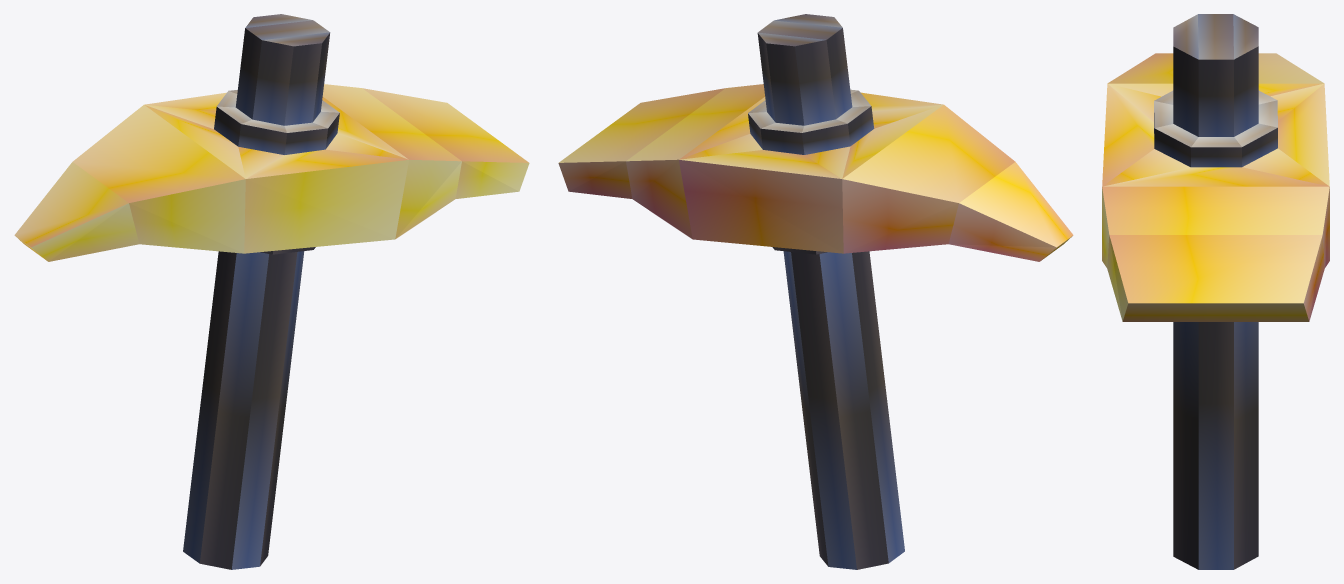
The model's file is pickaxe02.fbx.
3 renders of one model, left to right at view 1: azimuth 30°, elevation 25°; view 2: azimuth 150°, elevation 25°; view 3: azimuth 270°, elevation 25°, orthographic. The views are drawn at different scales.
Visible parts, largest first — view 1: pickaxe02; view 2: pickaxe02; view 3: pickaxe02.
Boxes of the visible parts, x1=… form: pickaxe02: x1=14, y1=14, x2=529, y2=569; pickaxe02: x1=558, y1=14, x2=1073, y2=569; pickaxe02: x1=1102, y1=14, x2=1329, y2=569.
Size of the model in its own units: 105 by 111 by 41.59.
